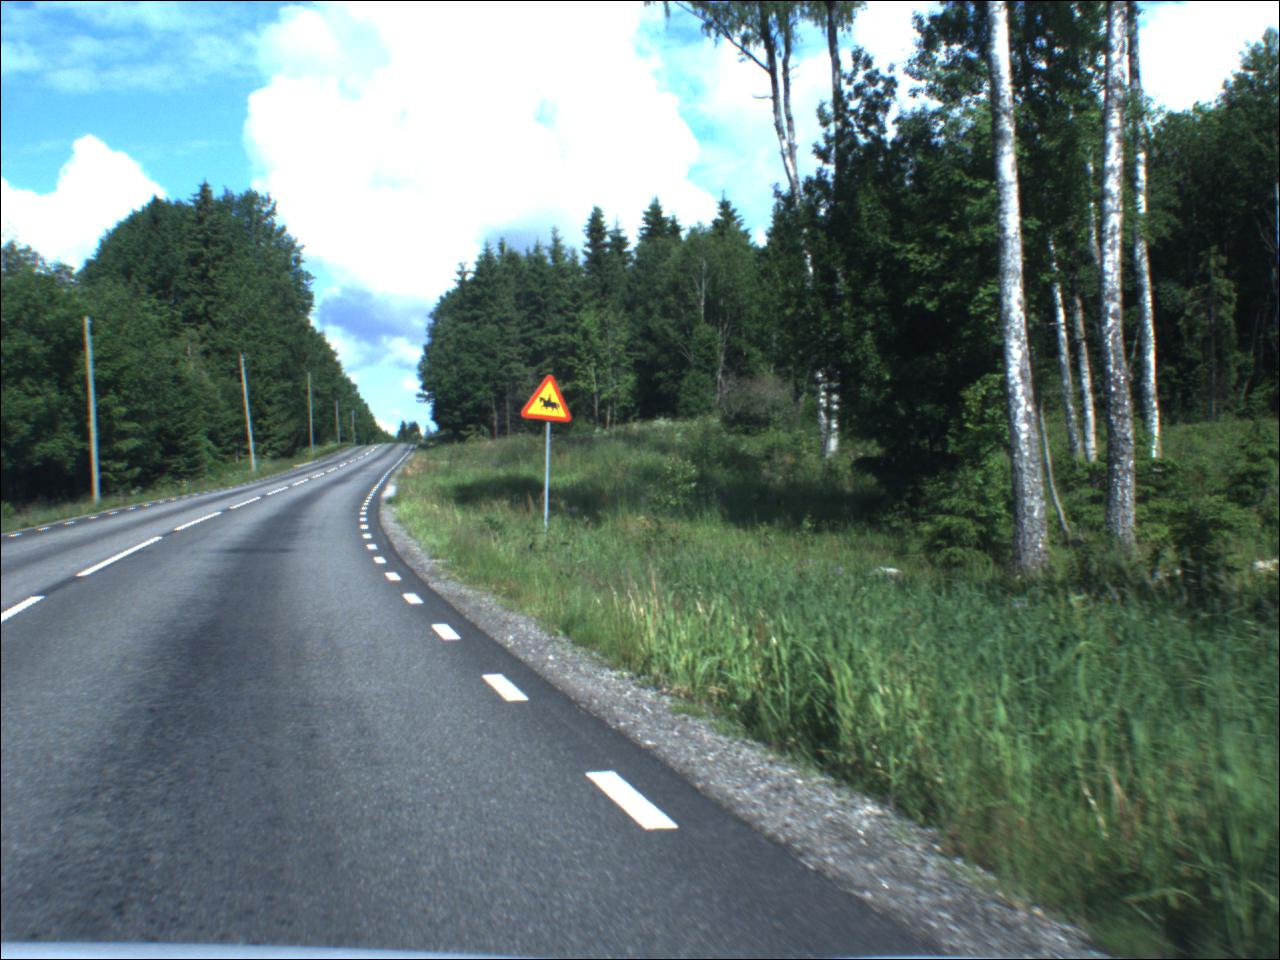WARNING_EQUISTARIANS: (522, 375, 574, 425)
